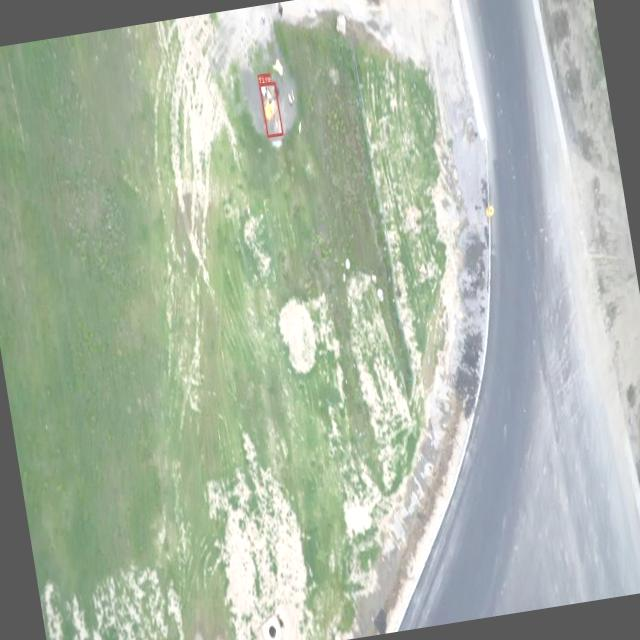fire: (258, 81, 284, 138)
